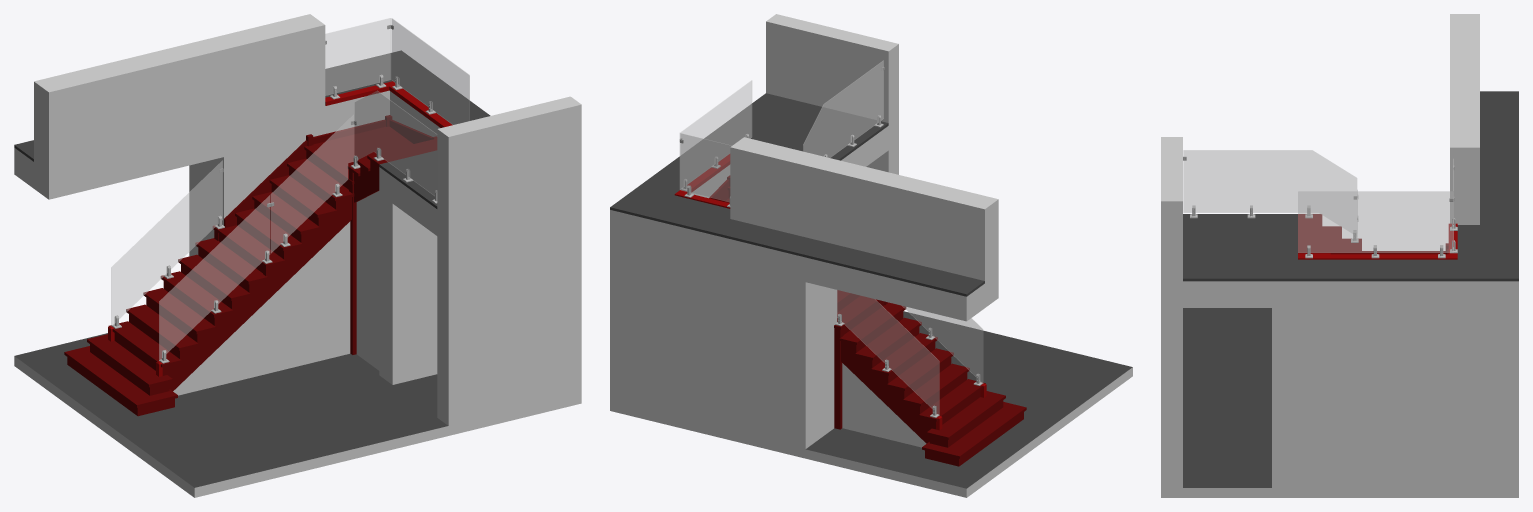
File: 3D Сборка 1.obj
3 views of the same model, side by side, from view 1: azimuth 30°, elevation 25°; view 2: azimuth 150°, elevation 25°; view 3: azimuth 270°, elevation 25° (orthographic). The views are drawn at different scales.
Bounding box in the file's own units: 6.04 × 4.45 × 4.87.
